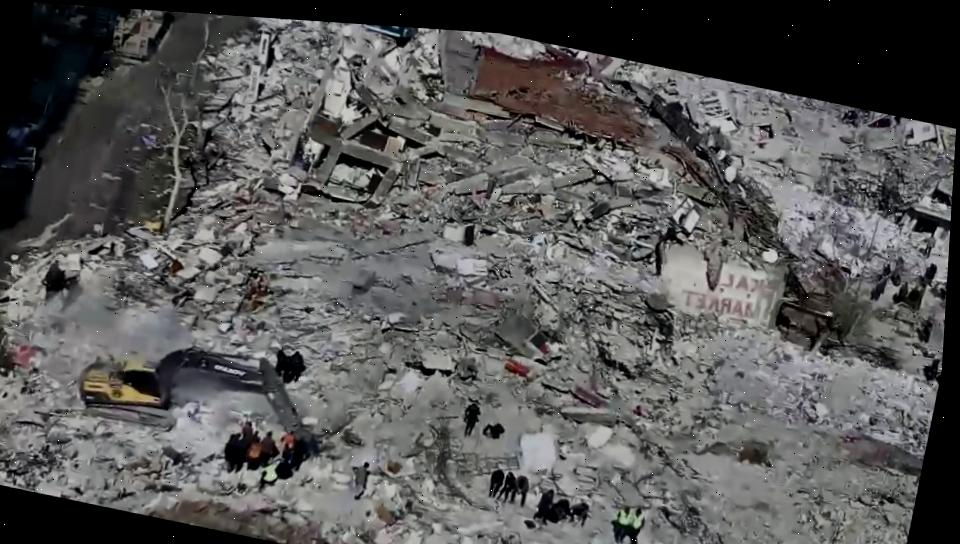kapali: (0, 175, 266, 528)
